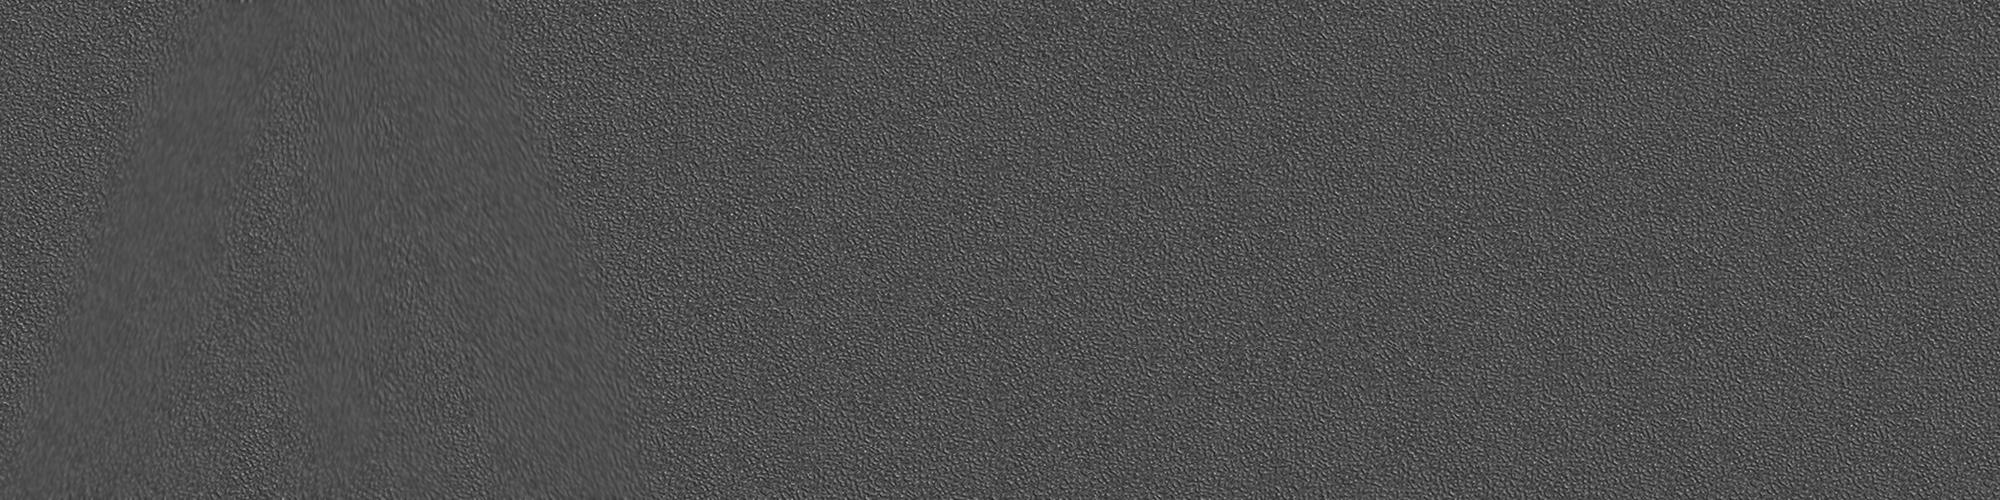Flow_Lines: (84, 5, 602, 499)
